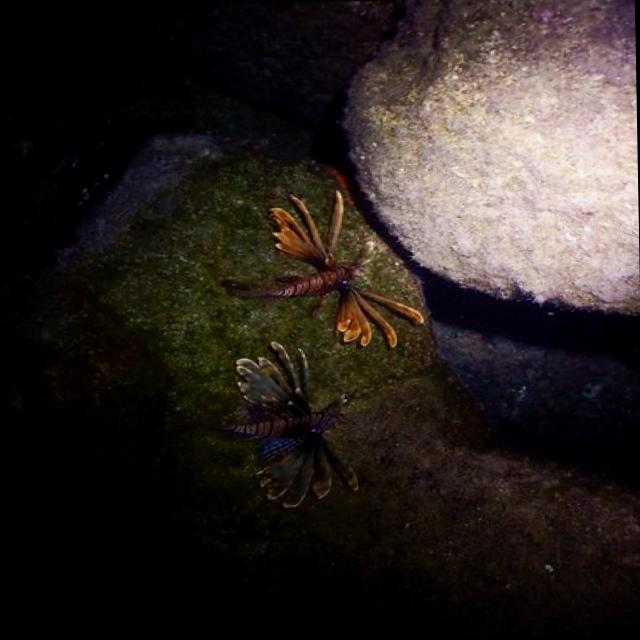Aslan Baligi: (216, 184, 425, 352), (193, 345, 397, 511)
